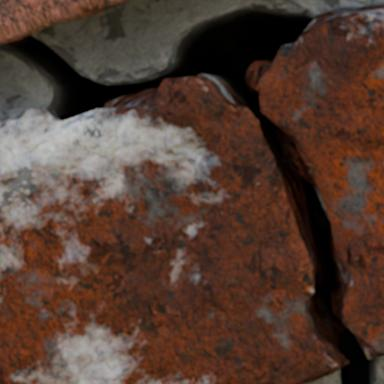brick: (0, 0, 125, 42)
broken_brick: (0, 76, 336, 383), (253, 3, 383, 357)
crack: (0, 0, 381, 383)
